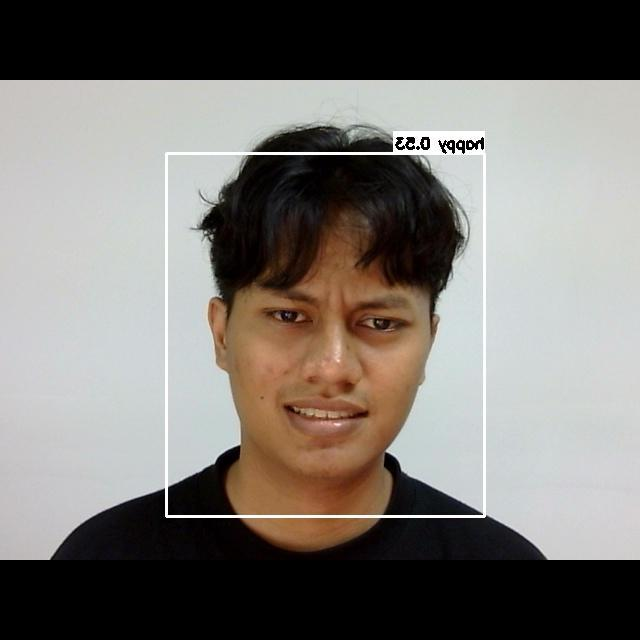Disgust: (231, 264, 431, 456)
